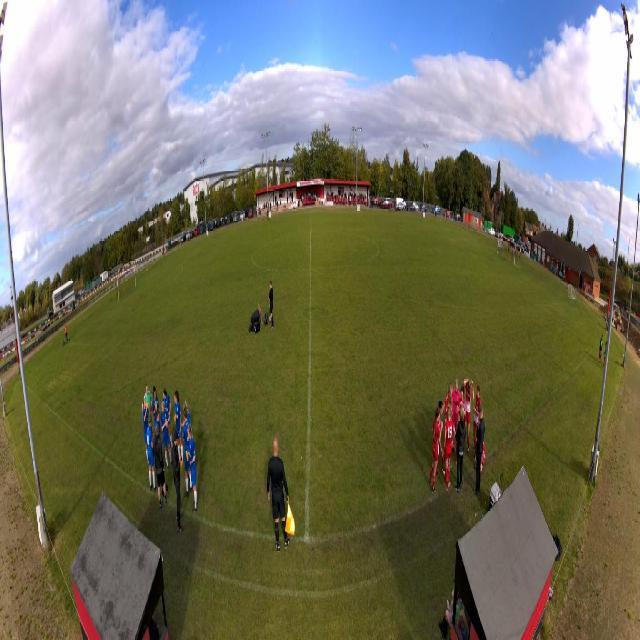ball: (269, 315, 272, 323)
player: (185, 428, 199, 513), (429, 407, 440, 496), (172, 387, 183, 467), (464, 377, 475, 457), (444, 407, 454, 491), (183, 407, 192, 497), (161, 400, 172, 469), (148, 413, 157, 494), (162, 389, 174, 446), (473, 385, 481, 457), (141, 396, 152, 444), (444, 379, 454, 421), (452, 378, 460, 430), (151, 385, 160, 431), (142, 383, 153, 420), (268, 276, 275, 330), (180, 399, 191, 433), (438, 400, 444, 462), (457, 384, 466, 423), (156, 409, 162, 448), (256, 301, 264, 328), (480, 442, 486, 472)
